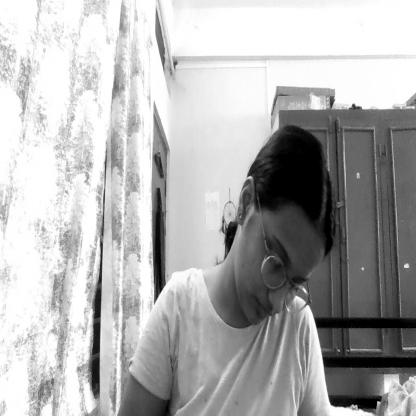Distracted: (233, 122, 336, 330)
